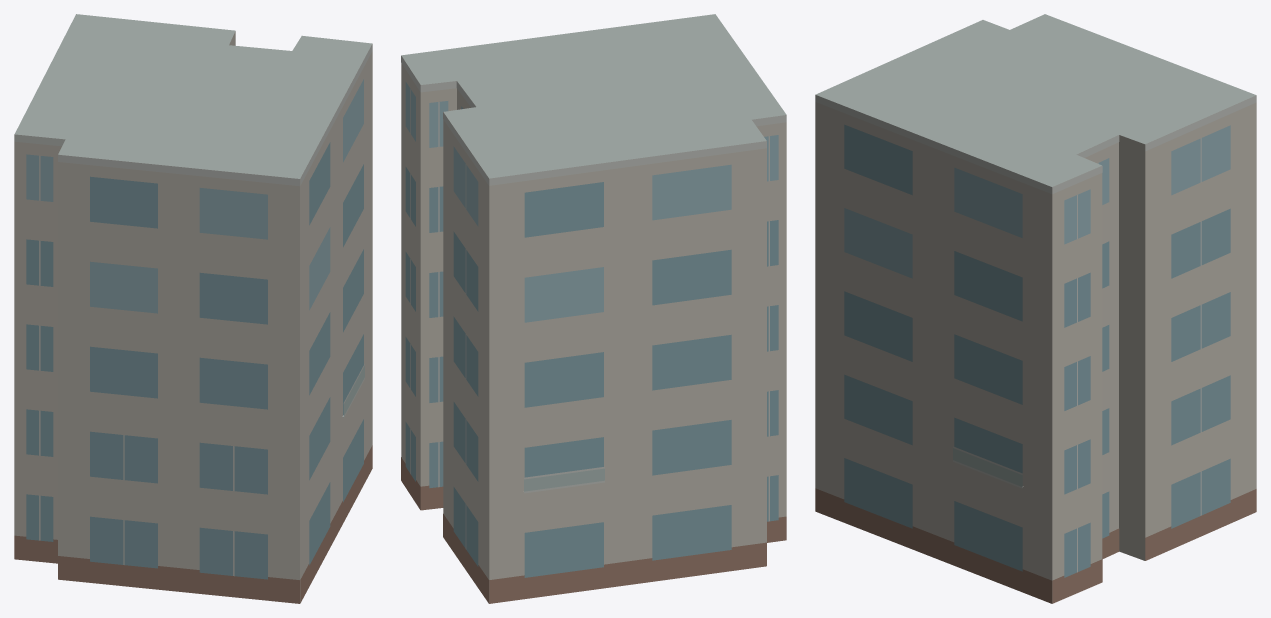
Rendered from survey-upis-32712097.glb.
The picture shows the model from 3 angles, left to right: view 1: azimuth 30°, elevation 25°; view 2: azimuth 150°, elevation 25°; view 3: azimuth 270°, elevation 25°; orthographic projection. The views are drawn at different scales.
Visible parts, largest first — view 1: survey-upis-32712097.tmp; view 2: survey-upis-32712097.tmp; view 3: survey-upis-32712097.tmp.
Boxes of the visible parts, x1,y1,x2,y2 form: survey-upis-32712097.tmp: (14, 14, 372, 603); survey-upis-32712097.tmp: (401, 14, 786, 603); survey-upis-32712097.tmp: (815, 14, 1256, 603).
Size of the model in its own units: 12.66 by 14.2 by 13.64.
